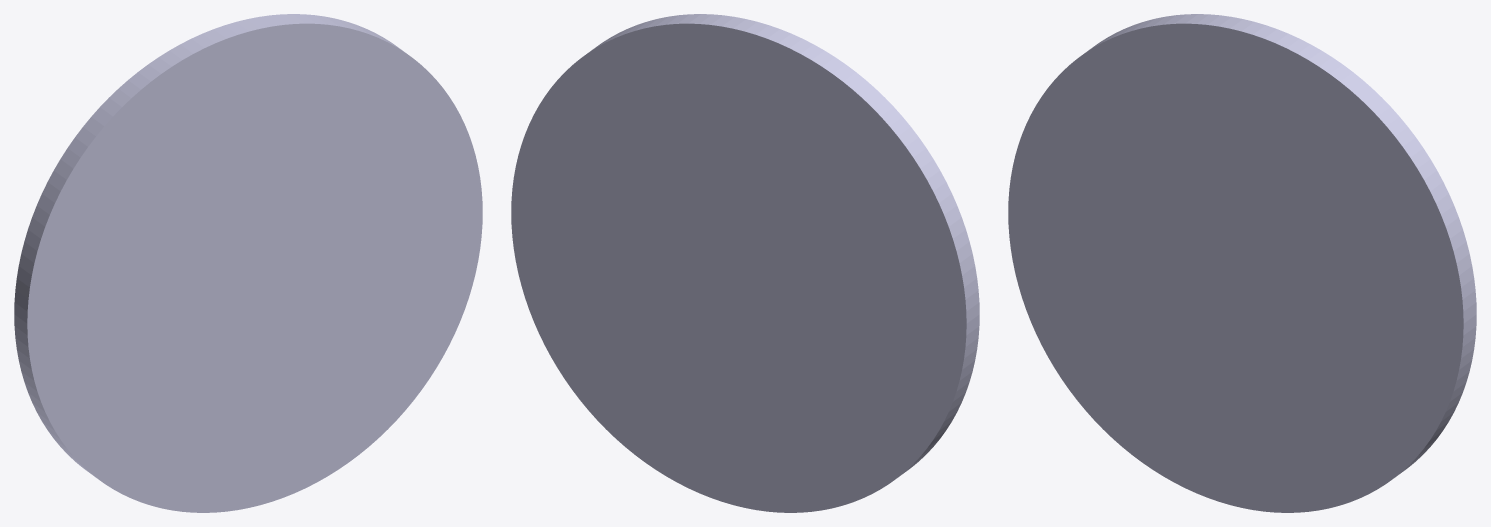
File: diffdrive_body002_5eqtna.dae
The picture shows the model from 3 angles, left to right: view 1: azimuth 30°, elevation 25°; view 2: azimuth 150°, elevation 25°; view 3: azimuth 330°, elevation 25°; orthographic projection.
Visible parts, largest first — view 1: node0; view 2: node0; view 3: node0.
Boxes of the visible parts, x1,y1,x2,y2 form: node0: (14,14,482,512); node0: (511,14,979,512); node0: (1008,14,1476,512).
Size of the model in its own units: 0.4 by 0.02 by 0.3999.
